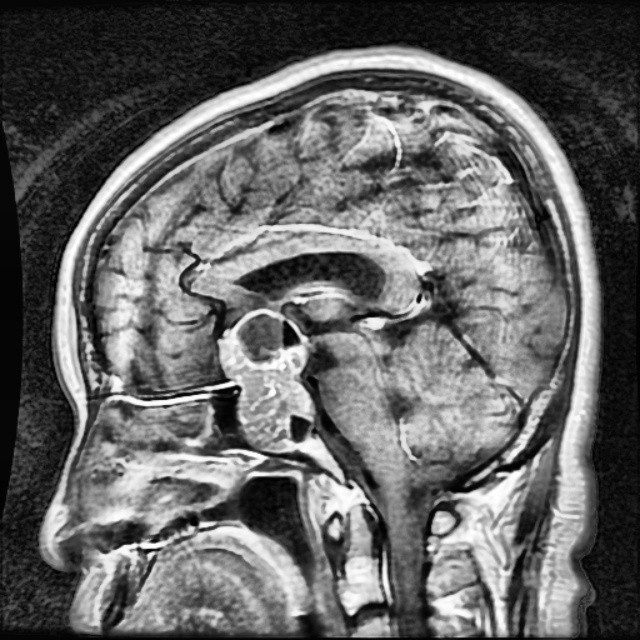Pituitary: (219, 308, 314, 452)
